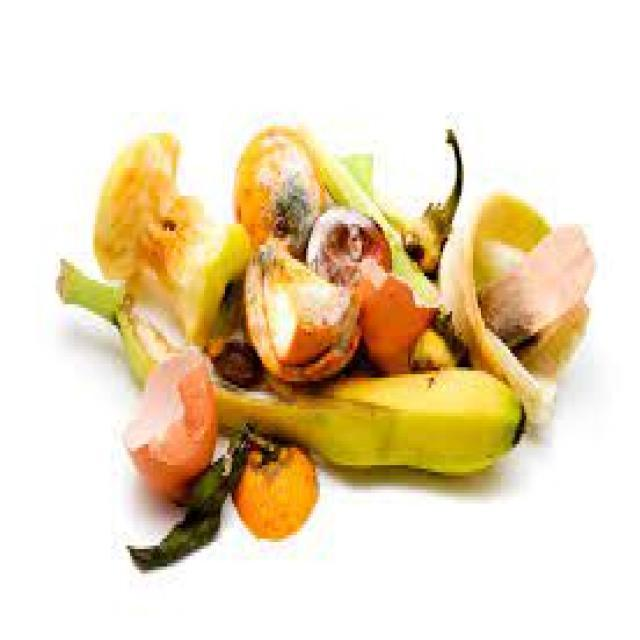Wet: (38, 71, 615, 592), (229, 102, 466, 386), (110, 347, 317, 590), (85, 123, 221, 302)
